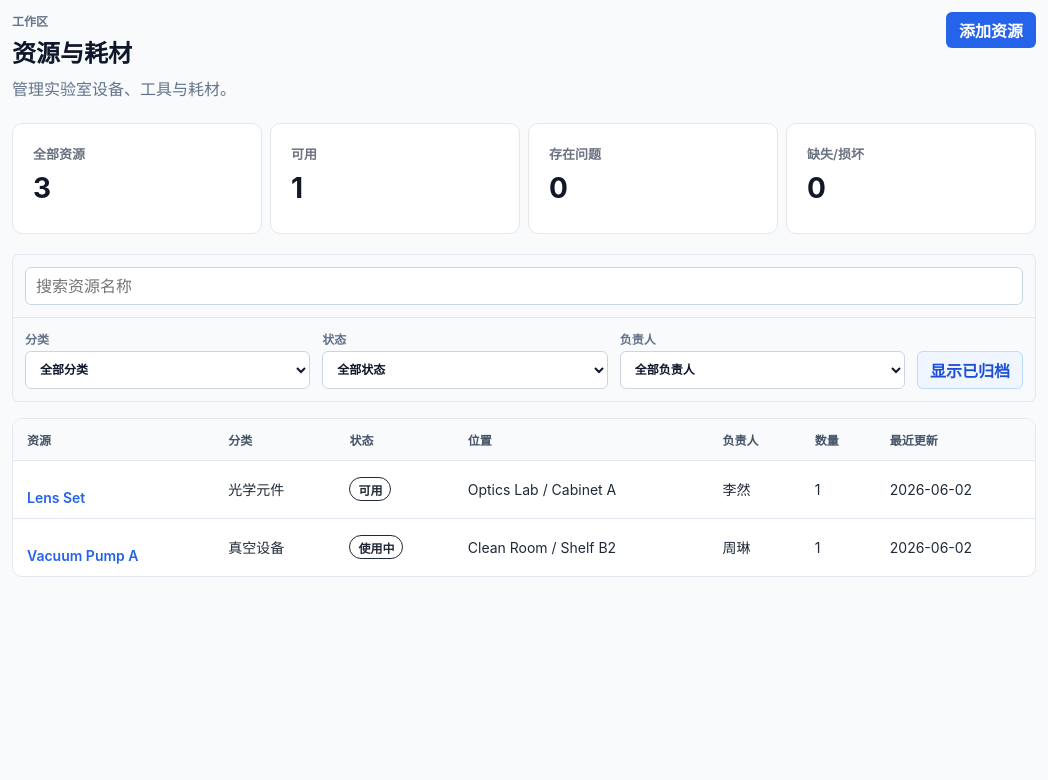
Test case: ResourcesPage list › filters by status
expect the link "Lens Set" is shown: met, box [27, 489, 85, 506]
Select "使用中" in the dropdown labelled "状态" at point(465, 370), box [322, 351, 608, 389]
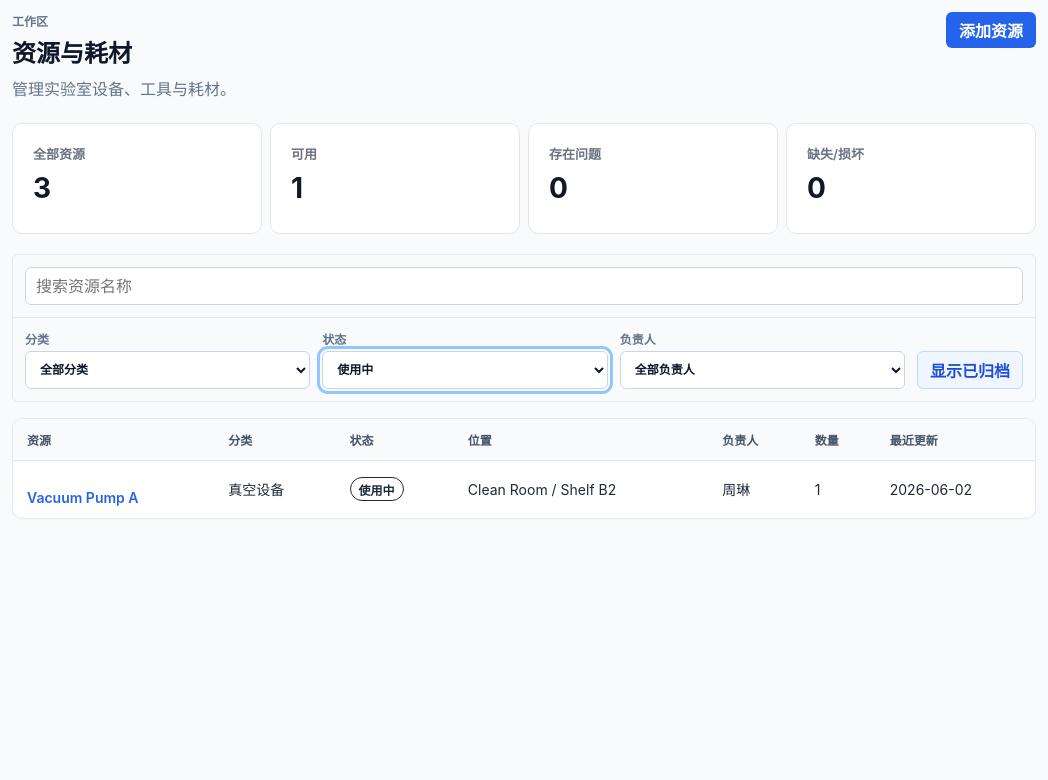
expect the link "Vacuum Pump A" is shown: met, box [27, 489, 138, 506]
expect the link "Lens Set" is gone: met
